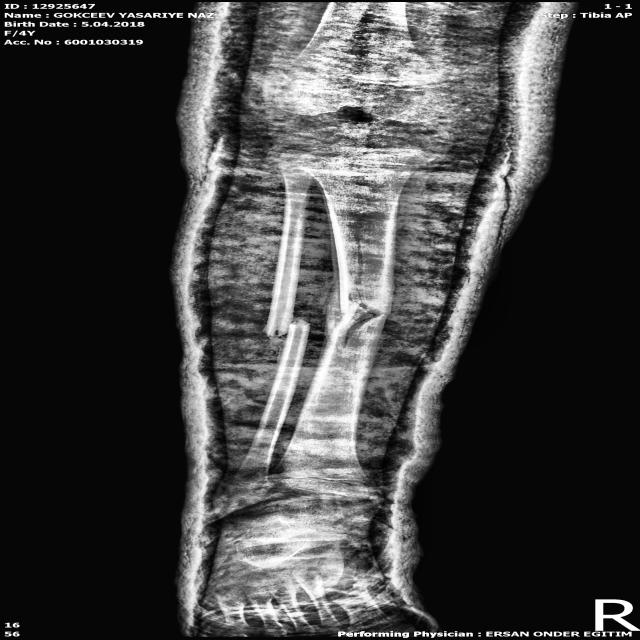Fracture: (323, 300, 383, 351), (230, 310, 314, 345)
